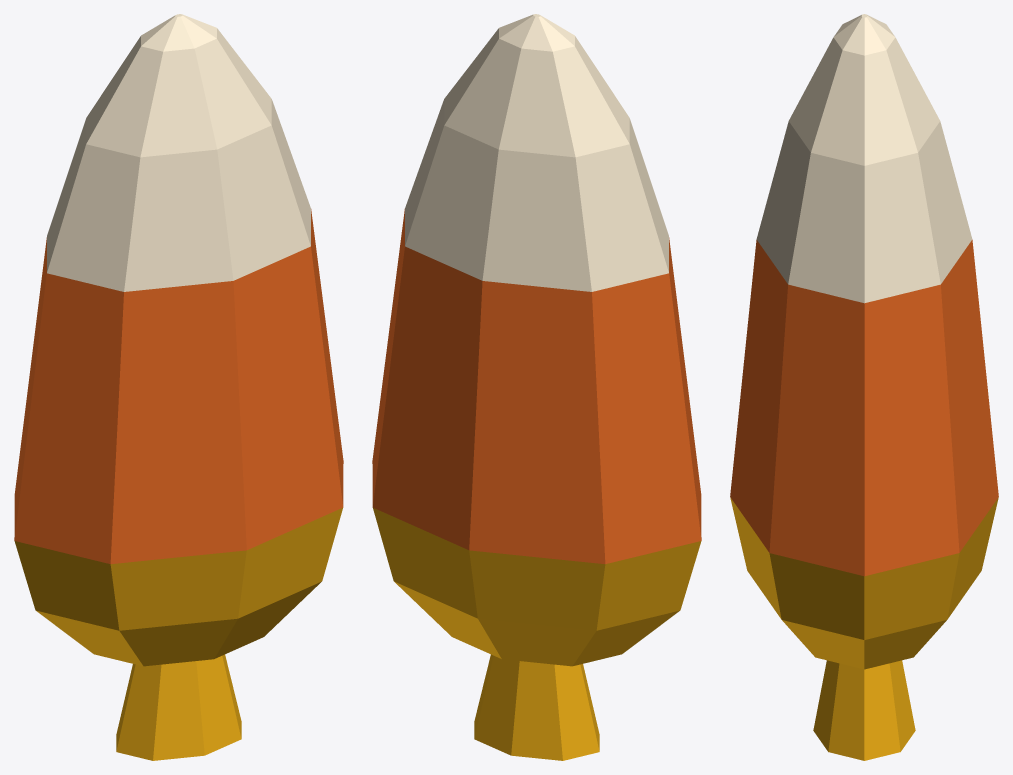
The model's file is Candycorn_tree.fbx.
3 views of the same model, side by side, from view 1: azimuth 30°, elevation 25°; view 2: azimuth 150°, elevation 25°; view 3: azimuth 270°, elevation 25° (orthographic).
Parts seen in each view (by area): view 1: Candycorn tree; view 2: Candycorn tree; view 3: Candycorn tree.
Part boxes in pixels (box(x1,y1,x2,y2)): Candycorn tree: box(14, 14, 343, 760); Candycorn tree: box(372, 14, 701, 760); Candycorn tree: box(730, 14, 998, 760).
Bounding box in the file's own units: 453 × 950 × 324.
